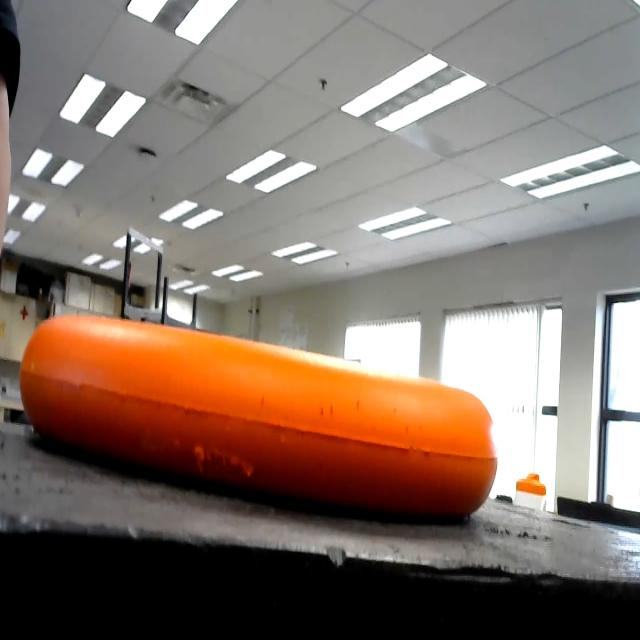note: (19, 304, 508, 549)
